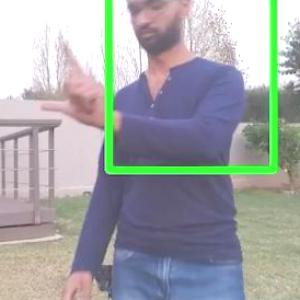land_hand: (40, 32, 120, 125)
